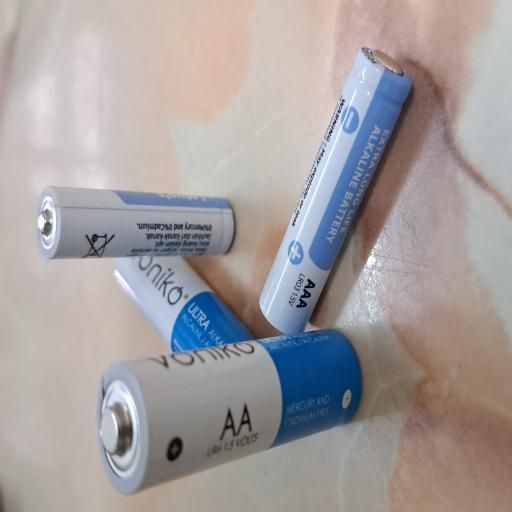battery: (12, 129, 140, 482), (133, 344, 350, 512), (188, 48, 244, 314), (118, 146, 190, 336)
